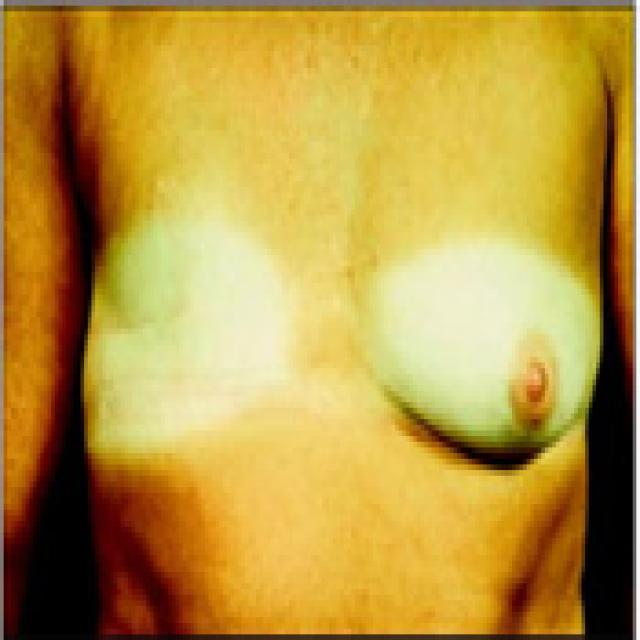Seno herido: (74, 157, 320, 507)
Seno ileso: (336, 157, 612, 509)
